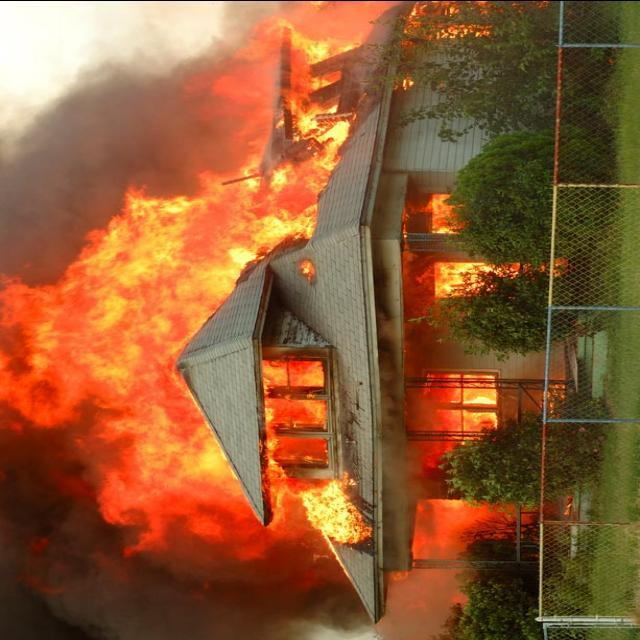Fire: (1, 0, 543, 566)
